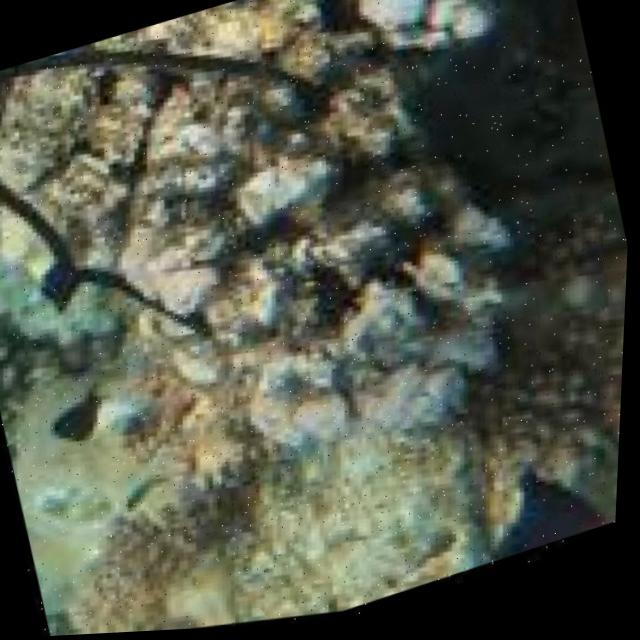Bleached Coral: (224, 259, 527, 490), (331, 0, 502, 76), (221, 151, 355, 243)
